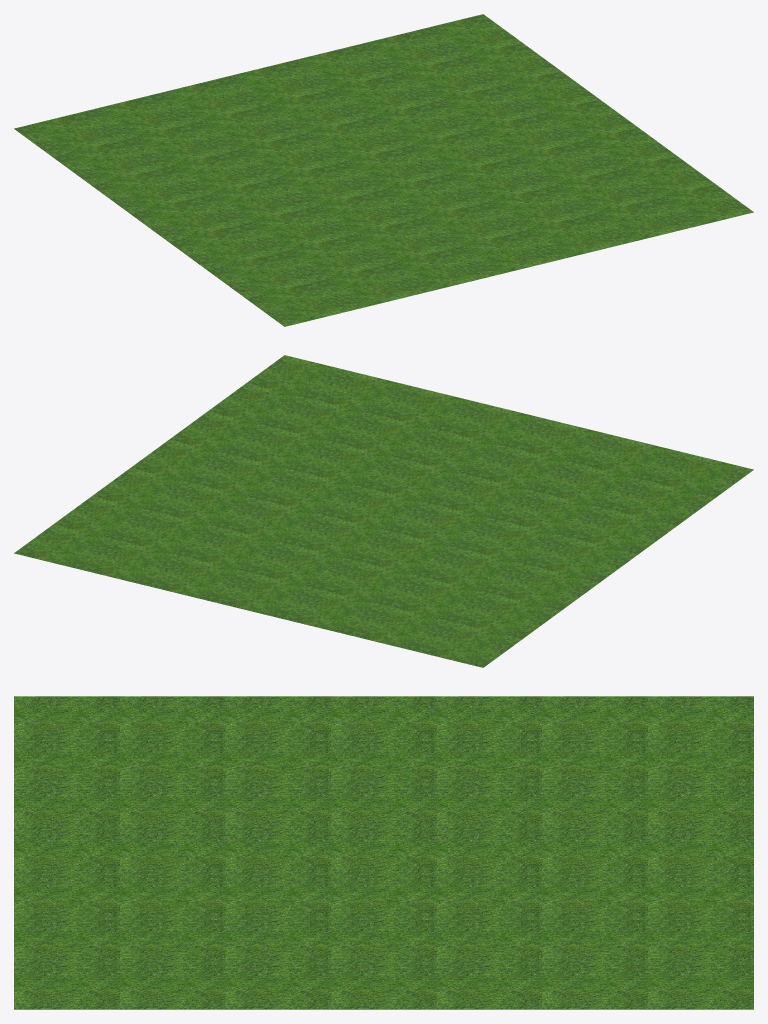
The model's file is floorExterior.obj.
3 renders of one model, top to bottom at view 1: azimuth 30°, elevation 25°; view 2: azimuth 150°, elevation 25°; view 3: azimuth 270°, elevation 25°, orthographic. The views are drawn at different scales.
Visible parts, largest first — view 1: group7_pasted__group_pasted__pasted__pCube1 polySurface23, group7_pasted__group_pasted__pasted__pCube1 polySurface5, group7_pasted__group_pasted__pasted__pCube1 polySurface46, group7_pasted__group_pasted__pasted__pCube1 polySurface10, group7_pasted__group_pasted__pasted__pCube1 polySurface8, group7_pasted__group_pasted__pasted__pCube1 polySurface28, group7_pasted__group_pasted__pasted__pCube1 polySurface26, group7_pasted__group_pasted__pasted__pCube1 polySurface44, group7_pasted__group_pasted__pasted__pCube1 polySurface18, group7_pasted__group_pasted__pasted__pCube1 polySurface41, group7_pasted__group_pasted__pasted__pCube1 polySurface36, group7_pasted__group_pasted__pasted__pCube1 polySurface20 (+37 smaller); view 2: group7_pasted__group_pasted__pasted__pCube1 polySurface28, group7_pasted__group_pasted__pasted__pCube1 polySurface35, group7_pasted__group_pasted__pasted__pCube1 polySurface27, group7_pasted__group_pasted__pasted__pCube1 polySurface30, group7_pasted__group_pasted__pasted__pCube1 polySurface38, group7_pasted__group_pasted__pasted__pCube1 polySurface18, group7_pasted__group_pasted__pasted__pCube1 polySurface15, group7_pasted__group_pasted__pasted__pCube1 polySurface3, group7_pasted__group_pasted__pasted__pCube1 polySurface23, group7_pasted__group_pasted__pasted__pCube1 polySurface8, group7_pasted__group_pasted__pasted__pCube1 polySurface7, group7_pasted__group_pasted__pasted__pCube1 polySurface46 (+37 smaller); view 3: polySurface21 group7_pasted__group_pasted__pasted__pCube1, group7_pasted__group_pasted__pasted__pCube1 polySurface14, group7_pasted__group_pasted__pasted__pCube1 polySurface43, group7_pasted__group_pasted__pasted__pCube1 polySurface40, group7_pasted__group_pasted__pasted__pCube1 polySurface45, group7_pasted__group_pasted__pasted__pCube1 polySurface37, group7_pasted__group_pasted__pasted__pCube1 polySurface26, group7_pasted__group_pasted__pasted__pCube1 polySurface46, group7_pasted__group_pasted__pasted__pCube1 polySurface35, group7_pasted__group_pasted__pasted__pCube1 polySurface1, group7_pasted__group_pasted__pasted__pCube1 polySurface3, group7_pasted__group_pasted__pasted__pCube1 polySurface12 (+37 smaller).
Part boxes in pixels (<box>): group7_pasted__group_pasted__pasted__pCube1 polySurface23: <box>246,282,351,326</box>; group7_pasted__group_pasted__pasted__pCube1 polySurface5: <box>581,200,686,244</box>; group7_pasted__group_pasted__pasted__pCube1 polySurface46: <box>648,184,753,228</box>; group7_pasted__group_pasted__pasted__pCube1 polySurface10: <box>447,233,552,277</box>; group7_pasted__group_pasted__pasted__pCube1 polySurface8: <box>313,265,418,310</box>; group7_pasted__group_pasted__pasted__pCube1 polySurface28: <box>14,112,119,156</box>; group7_pasted__group_pasted__pasted__pCube1 polySurface26: <box>380,249,485,293</box>; group7_pasted__group_pasted__pasted__pCube1 polySurface44: <box>514,216,619,261</box>; group7_pasted__group_pasted__pasted__pCube1 polySurface18: <box>169,225,273,269</box>; group7_pasted__group_pasted__pasted__pCube1 polySurface41: <box>120,124,224,168</box>; group7_pasted__group_pasted__pasted__pCube1 polySurface36: <box>321,75,426,119</box>; group7_pasted__group_pasted__pasted__pCube1 polySurface20: <box>207,254,312,298</box>; group7_pasted__group_pasted__pasted__pCube1 polySurface28: <box>416,623,521,667</box>; group7_pasted__group_pasted__pasted__pCube1 polySurface35: <box>14,525,119,569</box>; group7_pasted__group_pasted__pasted__pCube1 polySurface27: <box>215,574,320,618</box>; group7_pasted__group_pasted__pasted__pCube1 polySurface30: <box>455,594,560,639</box>; group7_pasted__group_pasted__pasted__pCube1 polySurface38: <box>81,541,186,585</box>; group7_pasted__group_pasted__pasted__pCube1 polySurface18: <box>571,510,676,554</box>; group7_pasted__group_pasted__pasted__pCube1 polySurface15: <box>349,606,454,651</box>; group7_pasted__group_pasted__pasted__pCube1 polySurface3: <box>282,590,387,634</box>; group7_pasted__group_pasted__pasted__pCube1 polySurface23: <box>648,453,753,497</box>; group7_pasted__group_pasted__pasted__pCube1 polySurface8: <box>581,437,686,481</box>; group7_pasted__group_pasted__pasted__pCube1 polySurface7: <box>148,557,253,602</box>; group7_pasted__group_pasted__pasted__pCube1 polySurface46: <box>246,355,351,399</box>; polySurface21 group7_pasted__group_pasted__pasted__pCube1: <box>225,785,331,830</box>; group7_pasted__group_pasted__pasted__pCube1 polySurface14: <box>542,785,648,830</box>; group7_pasted__group_pasted__pasted__pCube1 polySurface43: <box>225,964,331,1009</box>; group7_pasted__group_pasted__pasted__pCube1 polySurface40: <box>542,964,648,1009</box>; group7_pasted__group_pasted__pasted__pCube1 polySurface45: <box>436,919,542,964</box>; group7_pasted__group_pasted__pasted__pCube1 polySurface37: <box>436,964,542,1009</box>; group7_pasted__group_pasted__pasted__pCube1 polySurface26: <box>14,785,119,830</box>; group7_pasted__group_pasted__pasted__pCube1 polySurface46: <box>14,964,119,1009</box>; group7_pasted__group_pasted__pasted__pCube1 polySurface35: <box>648,964,753,1009</box>; group7_pasted__group_pasted__pasted__pCube1 polySurface1: <box>331,785,436,830</box>; group7_pasted__group_pasted__pasted__pCube1 polySurface3: <box>648,785,753,830</box>; group7_pasted__group_pasted__pasted__pCube1 polySurface12: <box>331,964,436,1009</box>.
Bounding box in the file's own units: 22.59 × 0.0103 × 22.56.
Materials: 49 (49 with a texture image).
